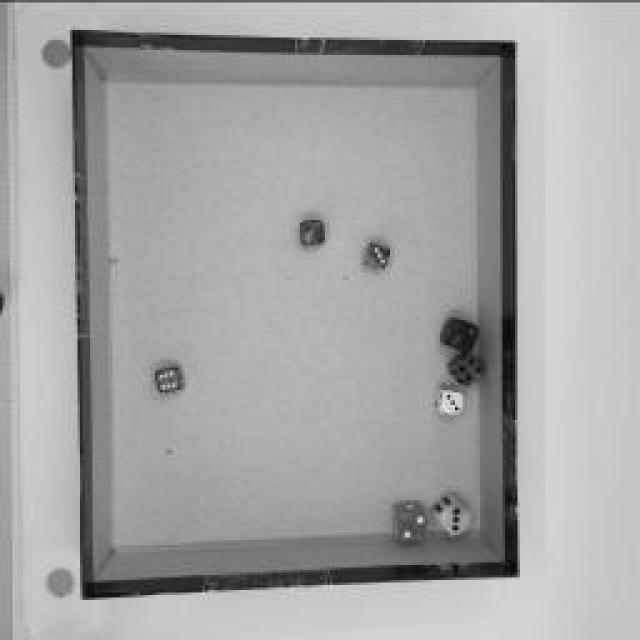dice_2: (388, 500, 428, 542), (436, 315, 479, 353), (291, 216, 329, 246)
dice_3: (432, 490, 472, 538), (430, 385, 465, 415), (360, 242, 392, 266)
dice_4: (444, 351, 484, 384)
dice_6: (151, 365, 184, 395)
